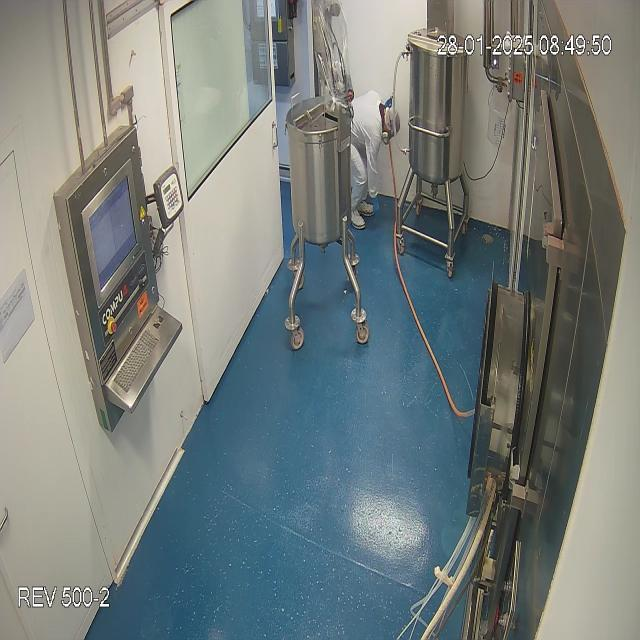bota: (349, 198, 381, 232)
pessoa: (341, 69, 402, 242)
touca: (384, 100, 401, 147)
